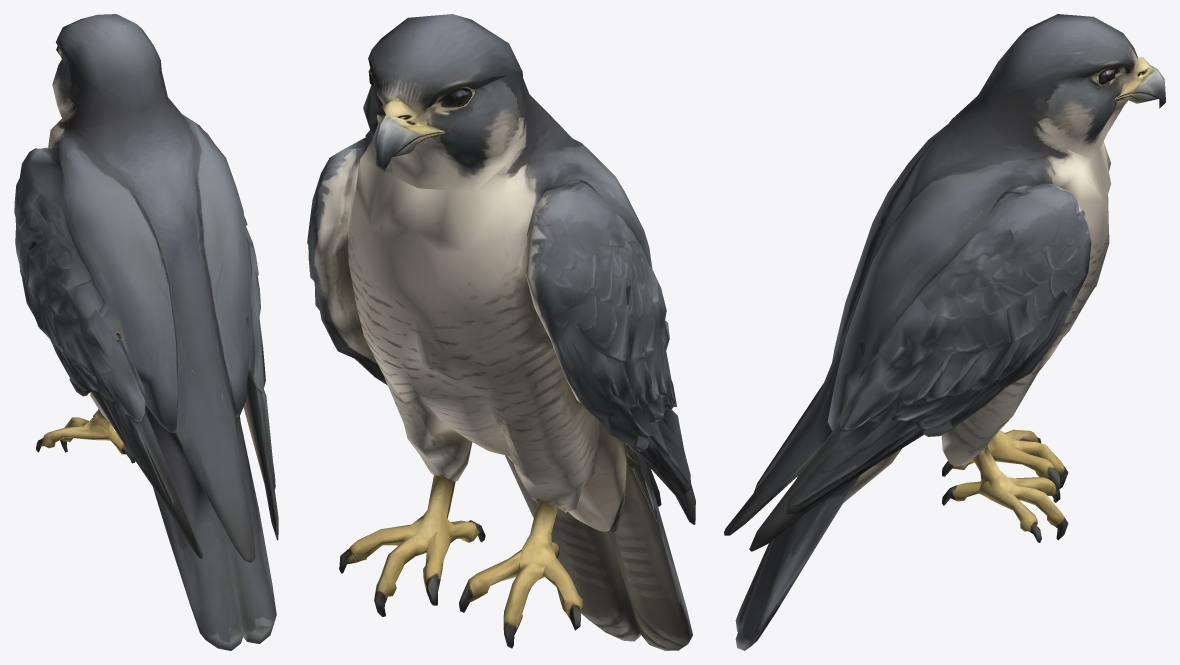
Rendered from marksman_falcon.glb.
3 views of the same model, side by side, from view 1: azimuth 30°, elevation 25°; view 2: azimuth 150°, elevation 25°; view 3: azimuth 270°, elevation 25° (orthographic). The views are drawn at different scales.
Parts seen in each view (by area): view 1: model; view 2: model; view 3: model.
Part boxes in pixels (<box>): model: <box>14,14,278,650</box>; model: <box>307,14,695,650</box>; model: <box>724,14,1165,650</box>.
Size of the model in its own units: 0.4131 by 1 by 0.6471.
1 material, 1 textured.
